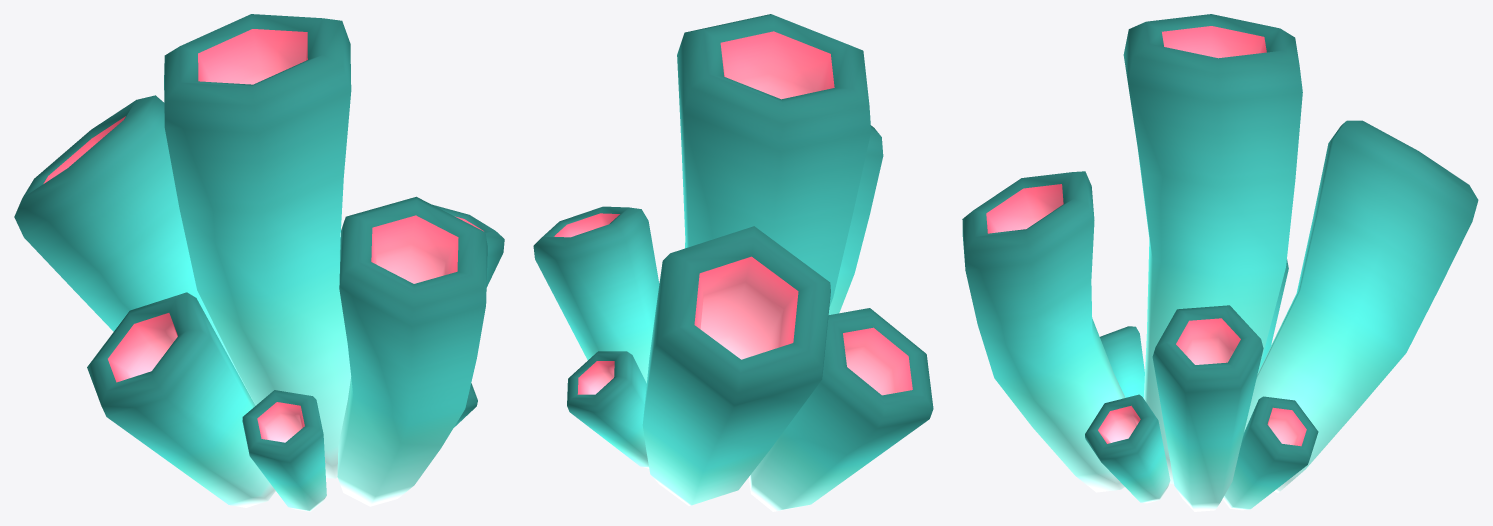
The model's file is plant1.glb.
The picture shows the model from 3 angles, left to right: view 1: azimuth 30°, elevation 25°; view 2: azimuth 150°, elevation 25°; view 3: azimuth 270°, elevation 25°; orthographic projection. The views are drawn at different scales.
Visible parts, largest first — view 1: w_pl17.003; view 2: w_pl17.003; view 3: w_pl17.003.
Boxes of the visible parts, bbox=[...] form: w_pl17.003: bbox=[14, 14, 504, 511]; w_pl17.003: bbox=[533, 14, 933, 511]; w_pl17.003: bbox=[962, 14, 1478, 511].
Size of the model in its own units: 23.26 by 26.38 by 27.12.
Materials: 1 (1 with a texture image).
